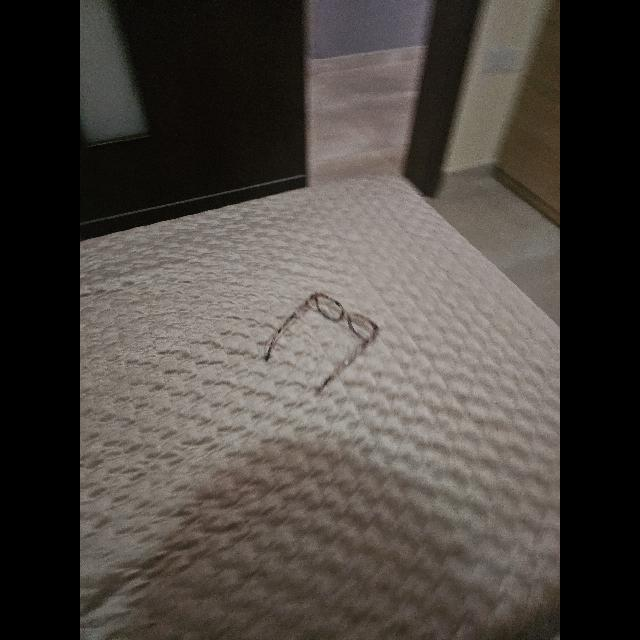glasses: (265, 292, 379, 392)
